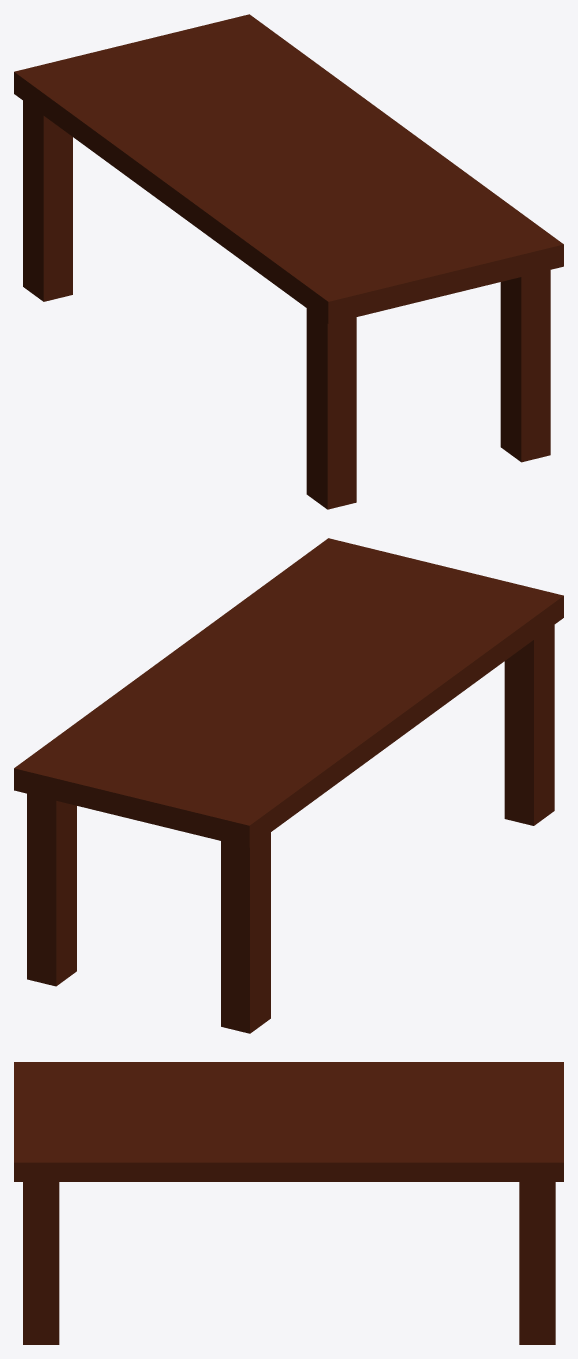
The model's file is table_textured.fbx.
3 views of the same model, one above another, from view 1: azimuth 30°, elevation 25°; view 2: azimuth 150°, elevation 25°; view 3: azimuth 270°, elevation 25° (orthographic). The views are drawn at different scales.
Parts seen in each view (by area): view 1: table1; view 2: table1; view 3: table1.
Part boxes in pixels (<box>): table1: <box>14,14,563,509</box>; table1: <box>14,538,563,1033</box>; table1: <box>14,1062,563,1344</box>.
Size of the model in its own units: 2.49 by 2.15 by 5.75.
